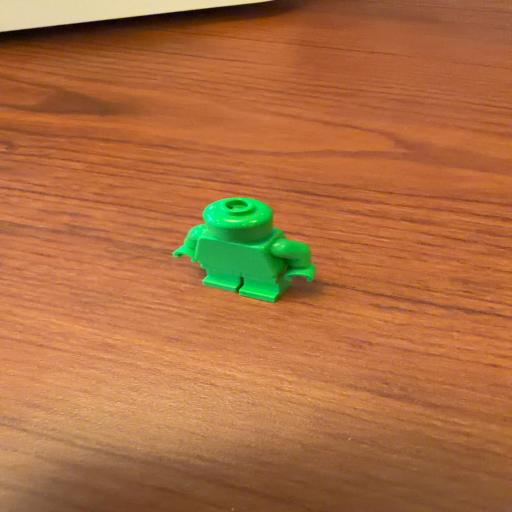UnoQ-minifig-detector: (173, 197, 316, 303)
